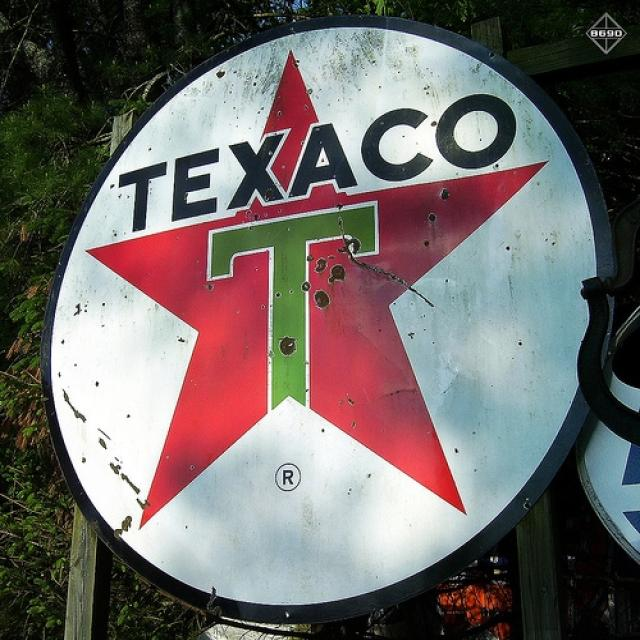texaco: (45, 24, 608, 609)
